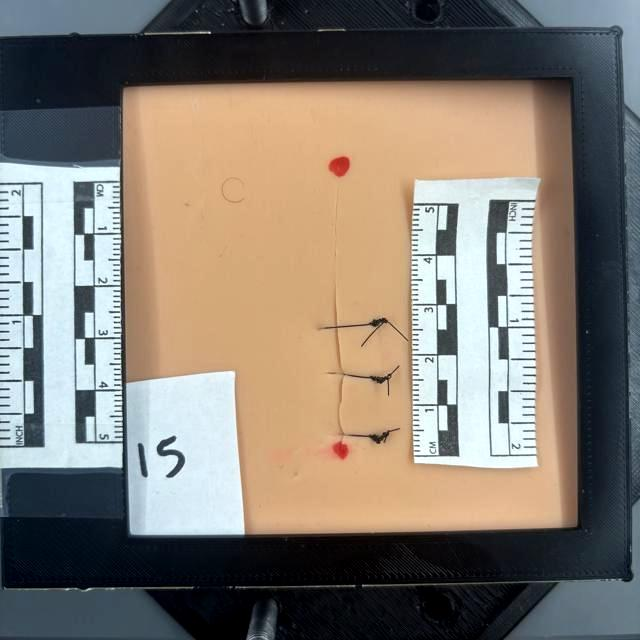incision_line: (333, 165, 350, 459)
scale_marker: (413, 354, 438, 398)
suture_d: (335, 377, 362, 433), (336, 326, 361, 369)
suture_l: (328, 428, 349, 438), (319, 324, 340, 333), (325, 369, 342, 376)
suture_r: (346, 369, 383, 385), (342, 322, 386, 328), (351, 433, 381, 441)
